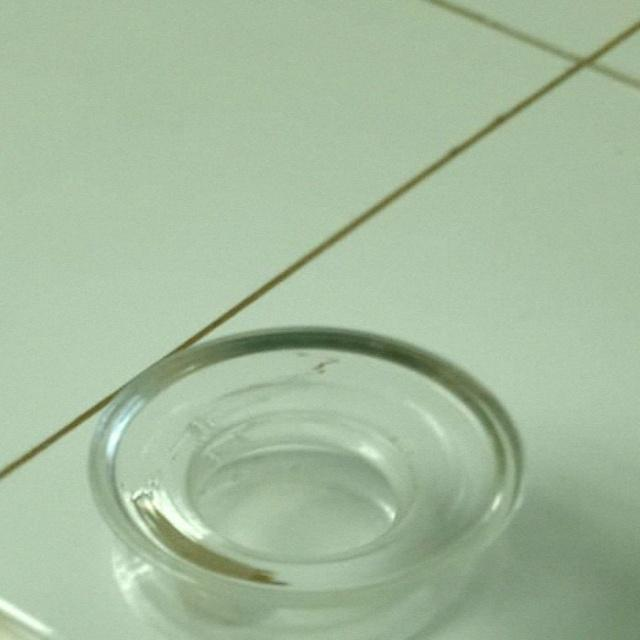Filtration Flask: (96, 302, 584, 632)
